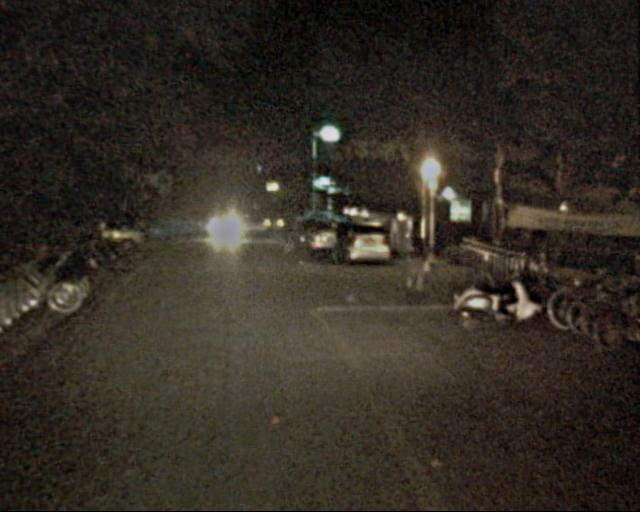person: (401, 222, 431, 294)
